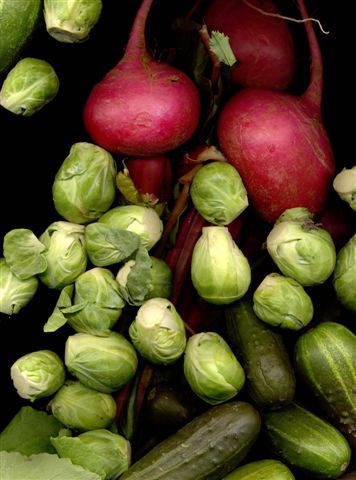turnip: (81, 1, 202, 211), (216, 84, 336, 214), (203, 0, 309, 87)
